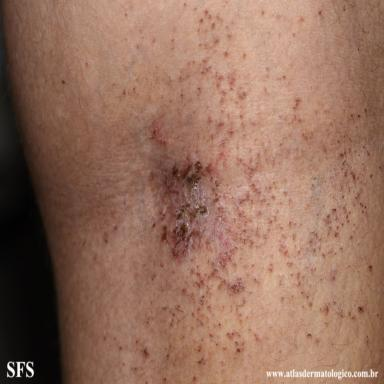Darier_s-Disease: (134, 2, 374, 383)
